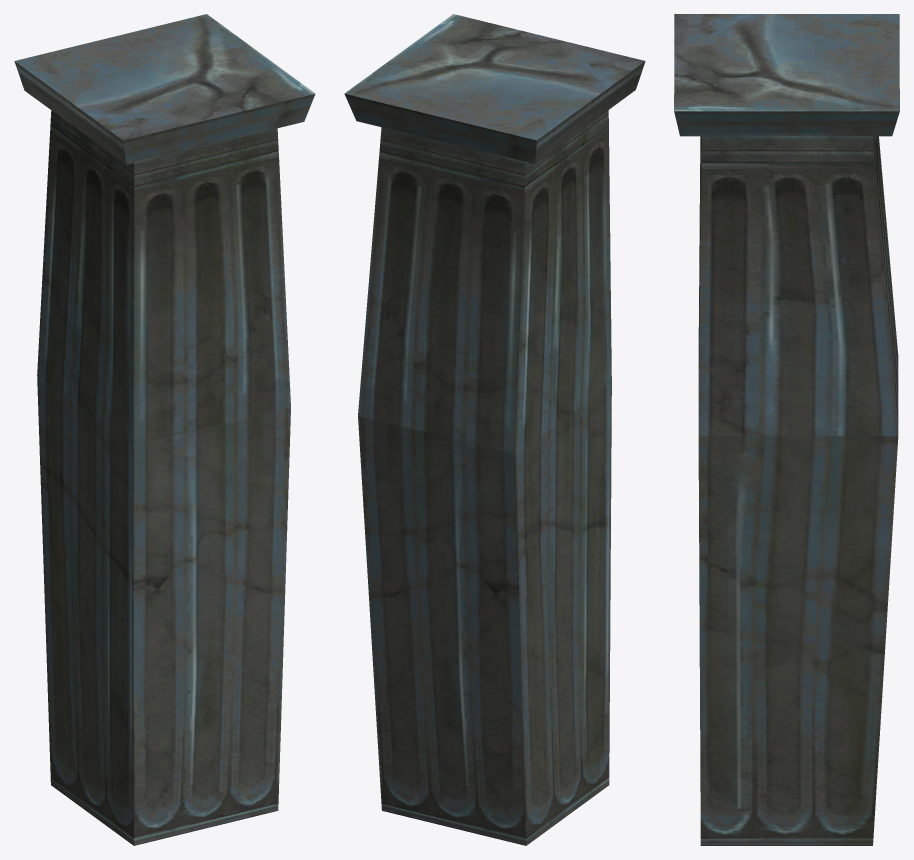
Rendered from stemple_pillar_12.fbx.
3 renders of one model, left to right at view 1: azimuth 30°, elevation 25°; view 2: azimuth 150°, elevation 25°; view 3: azimuth 270°, elevation 25°, orthographic. The views are drawn at different scales.
Parts seen in each view (by area): view 1: obj1.069; view 2: obj1.069; view 3: obj1.069.
Part boxes in pixels (x1,y1,x2,y2): obj1.069: (14,14,315,845); obj1.069: (344,14,645,845); obj1.069: (674,14,899,845).
Bounding box in the file's own units: 1.77 × 6.34 × 1.74.
